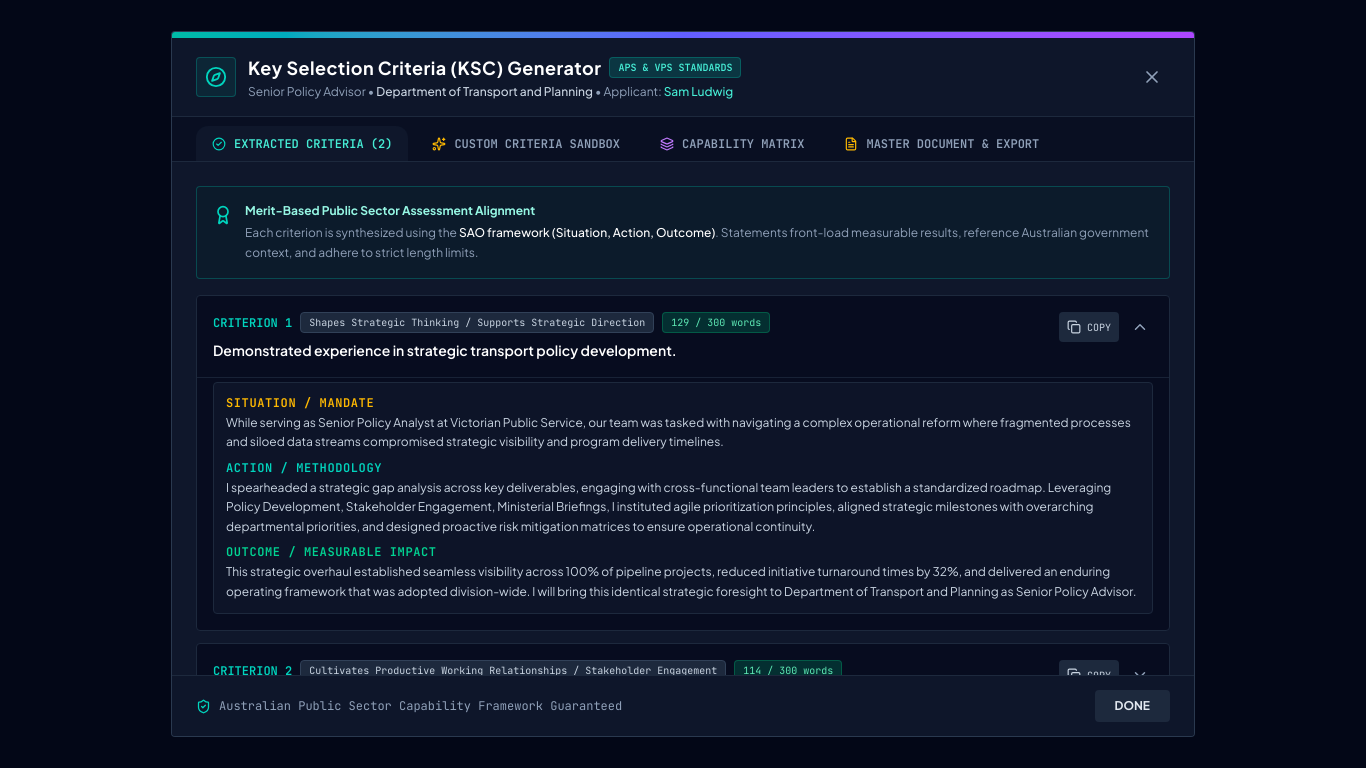
Test: KscGeneratorModal › navigates cleanly between tabs
The width and height of the screenshot is (1366, 768).
Expected: the text "Merit-Based Public Sector Assessment Alignment" is shown, top-left (245, 204), bottom-right (535, 218)
# Tab: Sandbox
Click the button "CUSTOM CRITERIA SANDBOX" at (526, 145), box top-left (416, 126), bottom-right (636, 164)
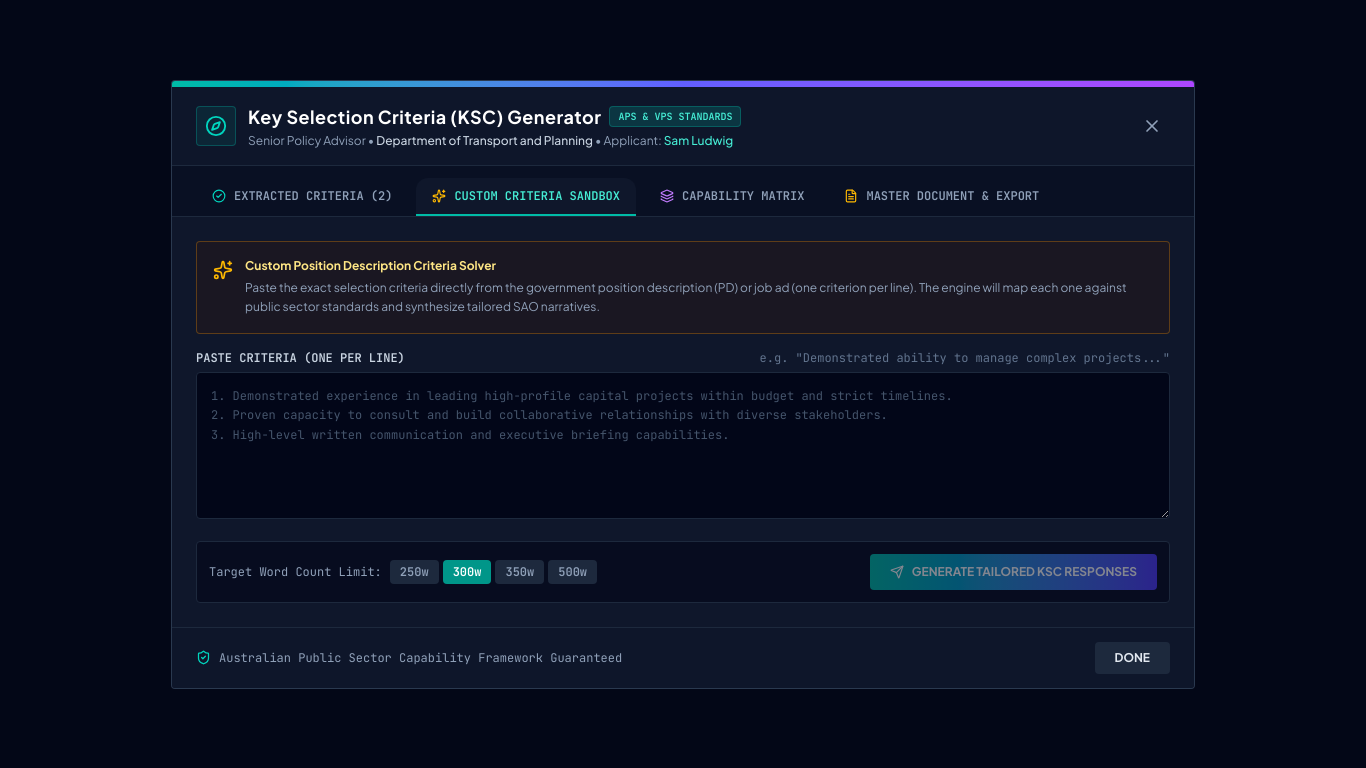
Expected: the text "Custom Position Description Criteria Solver" is shown, top-left (245, 258), bottom-right (496, 272)
# Tab: Capability Matrix
Click the button "CAPABILITY MATRIX" at (732, 196), box top-left (644, 178), bottom-right (820, 216)
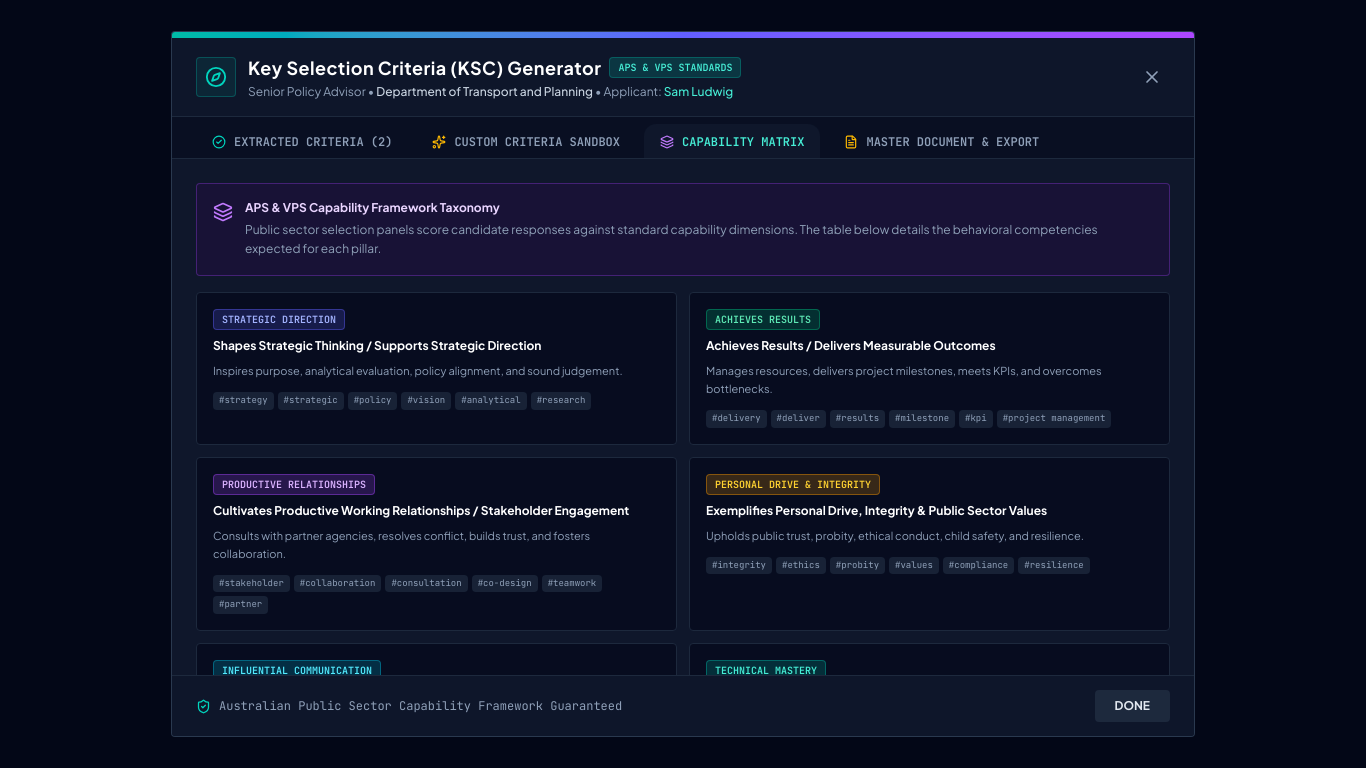
Expected: the text "APS & VPS Capability Framework Taxonomy" is shown, top-left (245, 200), bottom-right (500, 215)
# Tab: Master Document
Click the button "MASTER DOCUMENT & EXPORT" at (942, 143), box top-left (828, 124), bottom-right (1055, 162)
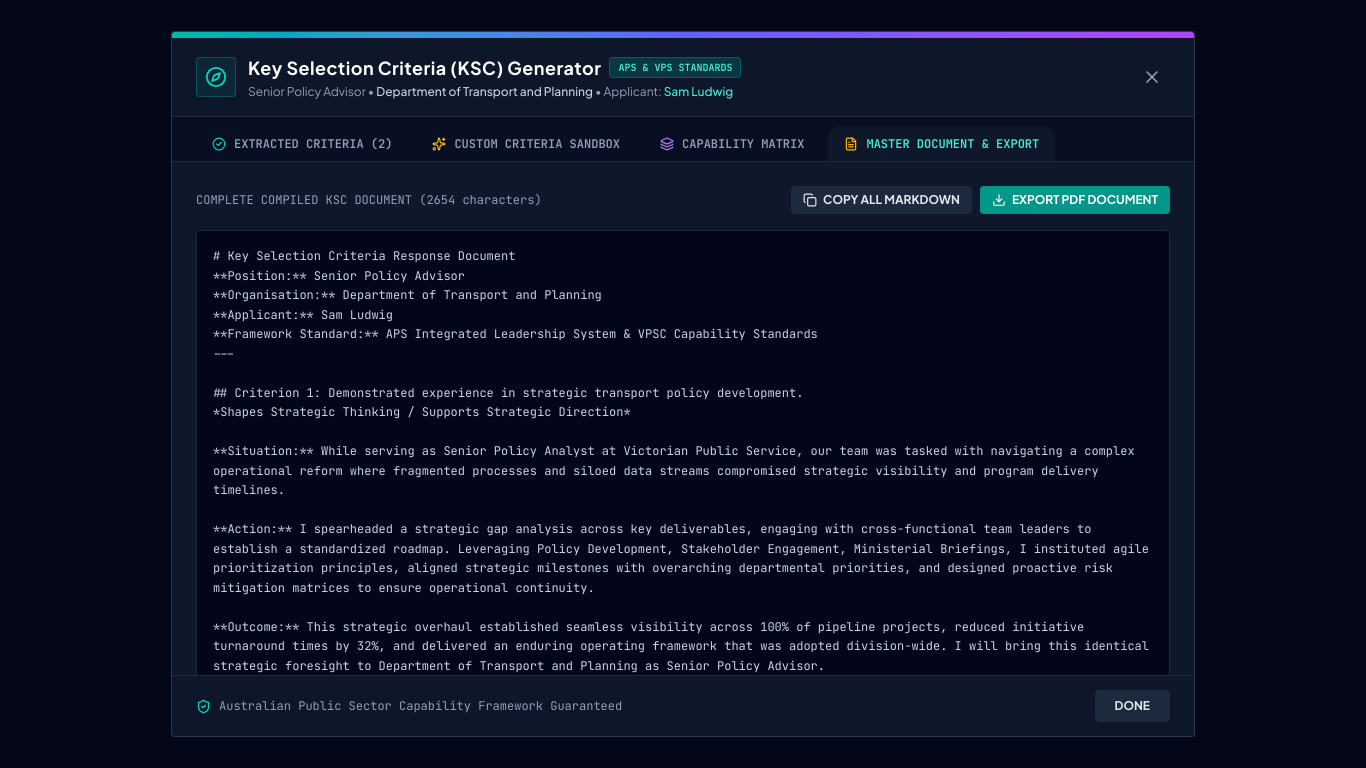
Expected: the text "COMPLETE COMPILED KSC DOCUMENT (2654 characters)" is shown, top-left (196, 192), bottom-right (542, 208)
